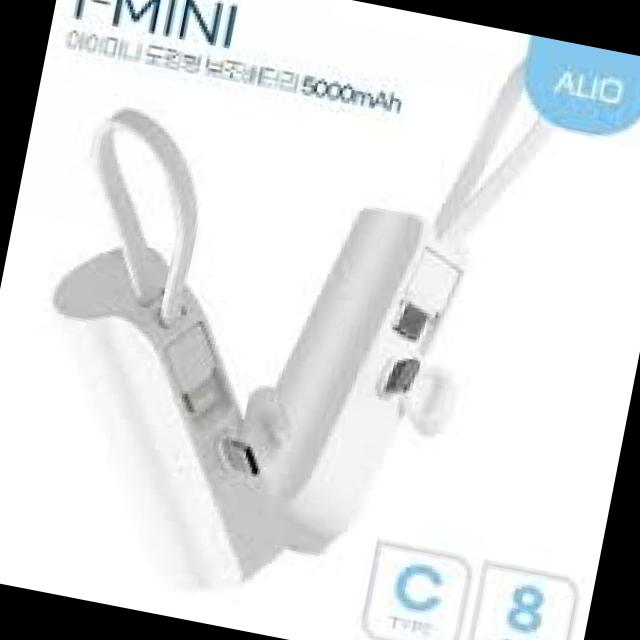power_bank: (4, 228, 340, 612), (226, 187, 497, 580)
